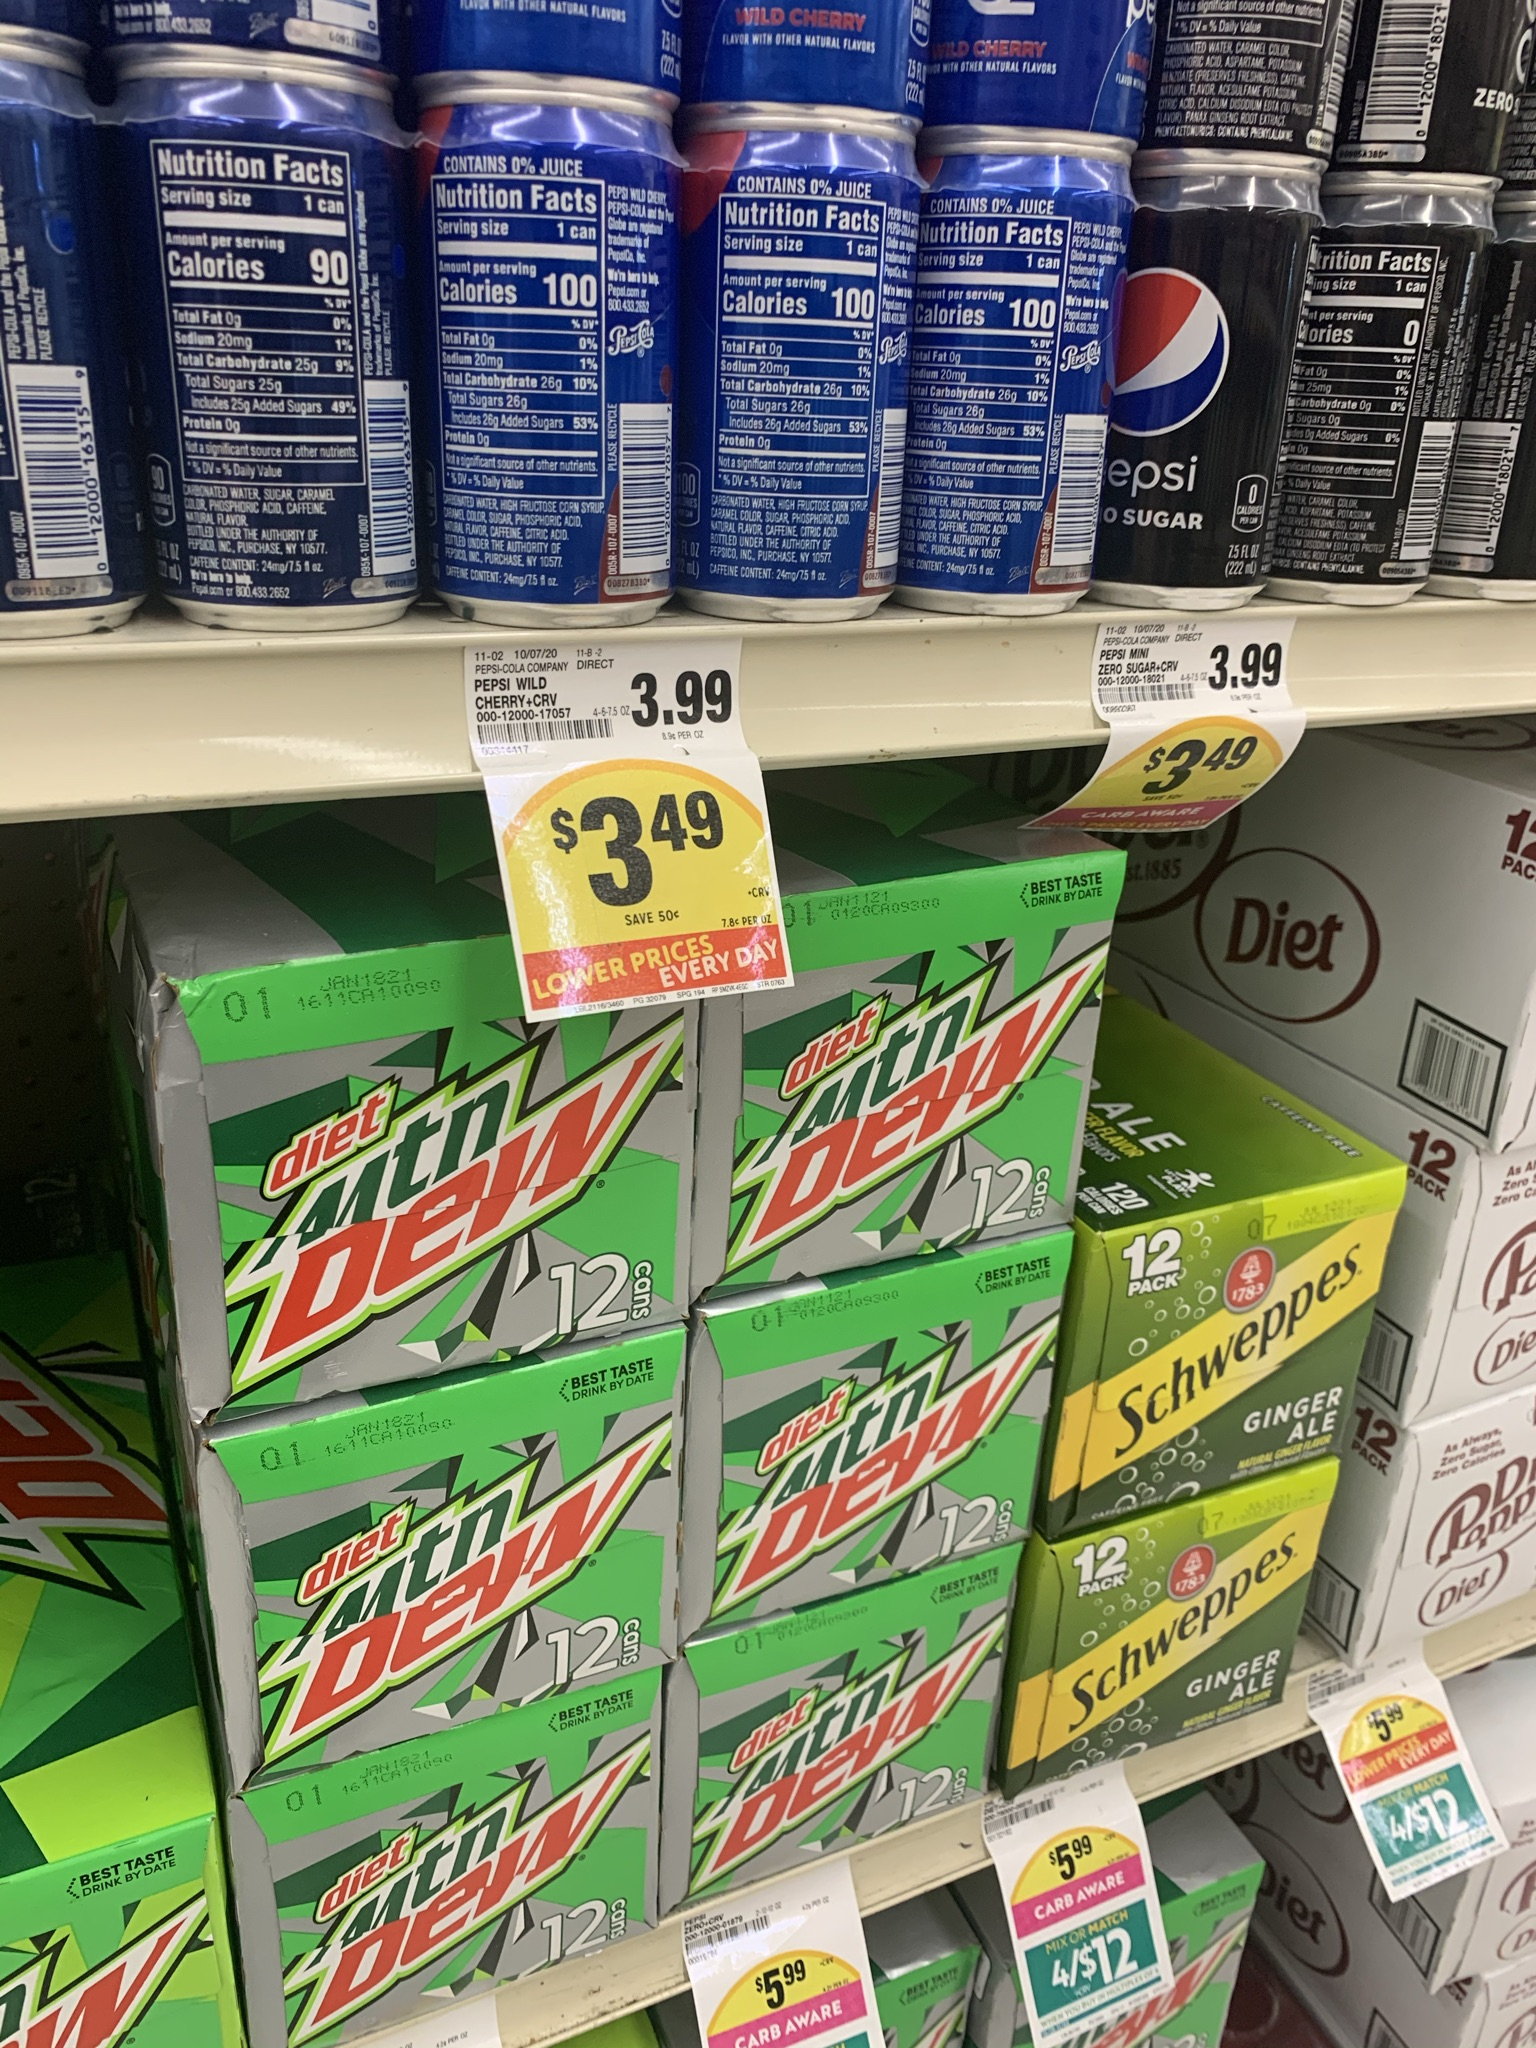mountain dew soda: (184, 989, 671, 1355), (737, 910, 1071, 1242), (210, 1455, 653, 1687), (724, 1329, 1029, 1566), (284, 1793, 647, 1969), (699, 1651, 1025, 1821)
pepsi soda: (1142, 179, 1262, 576)
schweppes ginger ale: (1097, 1226, 1359, 1480), (1044, 1559, 1313, 1738)
